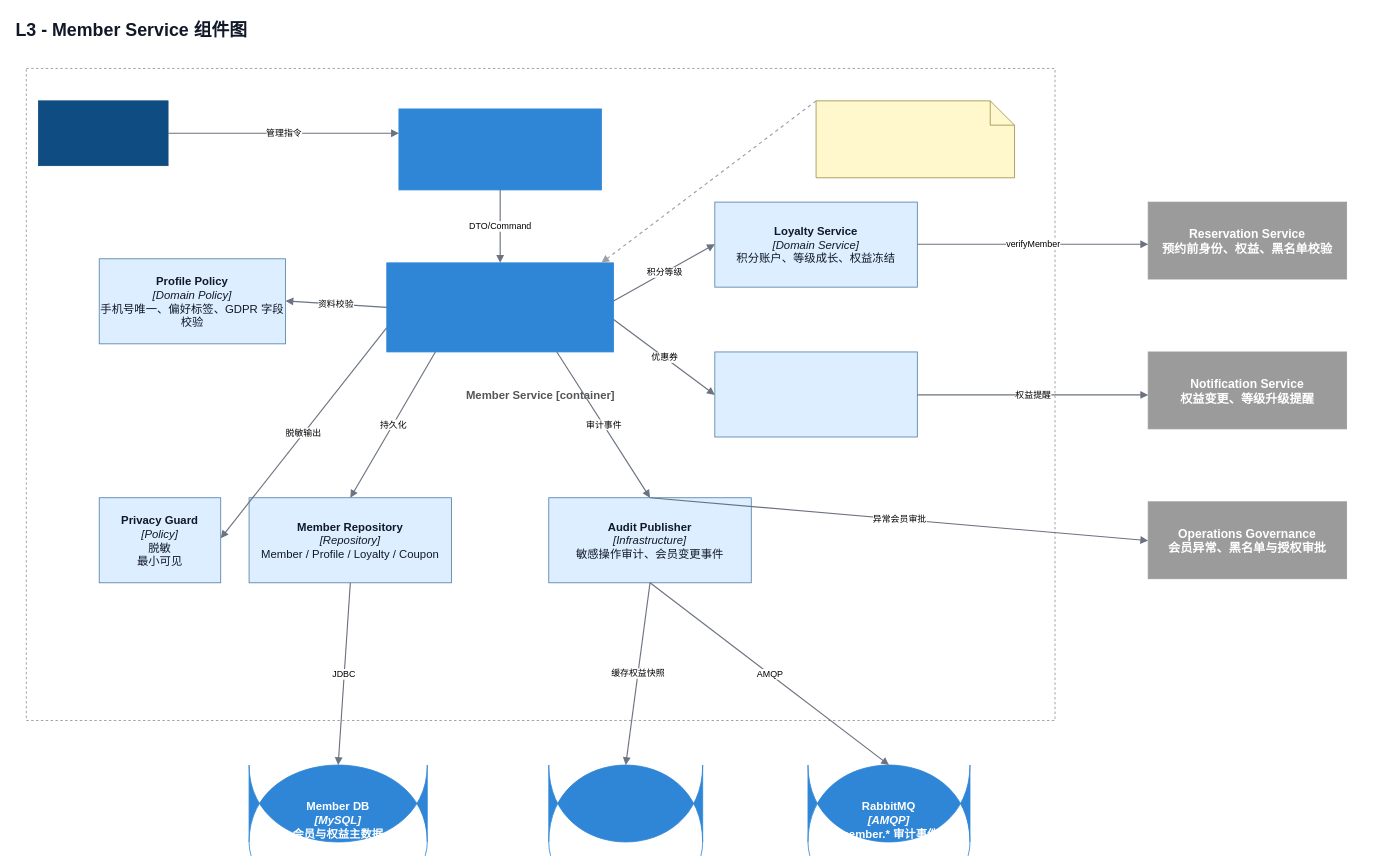
Image size: 1388x856. Some labels were removed from this diagram. The shapes that lost their labels are listed below. From the top down, each one's centre as x and y in pixels, then its label:
At [103,133]: "管理员 黑名单 权益审批".
At [499,149]: "Member API [REST Controller] 会员资料、偏好、积分、优惠券接口".
At [915,139]: "隐私边界 服务内部保留明文字段 对外只暴露脱敏 DTO 与授权后的权益结论".
At [500,307]: "Member Application Service [Application Service] 资料更新、权益变更、隐私字段脱敏".
At [815,394]: "Coupon Service [Domain Service] 优惠券发放、核销、过期处理".
At [625,803]: "Redis [Cache] 会话、权益快照".
